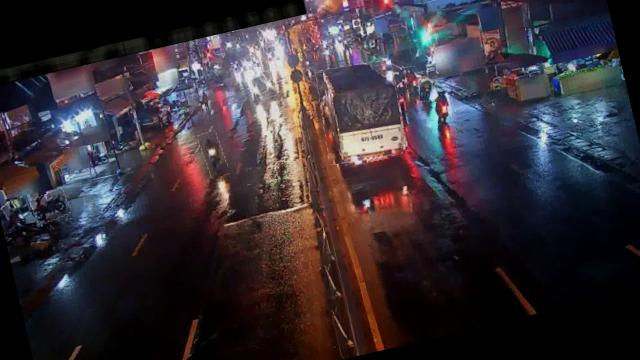Bike: (29, 187, 72, 224), (198, 130, 229, 181), (432, 90, 454, 125), (416, 78, 438, 103), (402, 65, 420, 93)
Car: (250, 71, 278, 102)
Truck: (311, 56, 411, 168)
